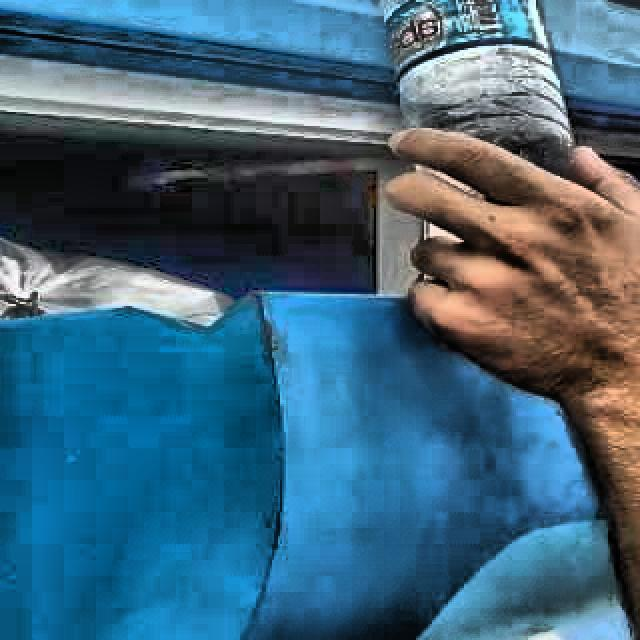plastic: (383, 0, 573, 168)
